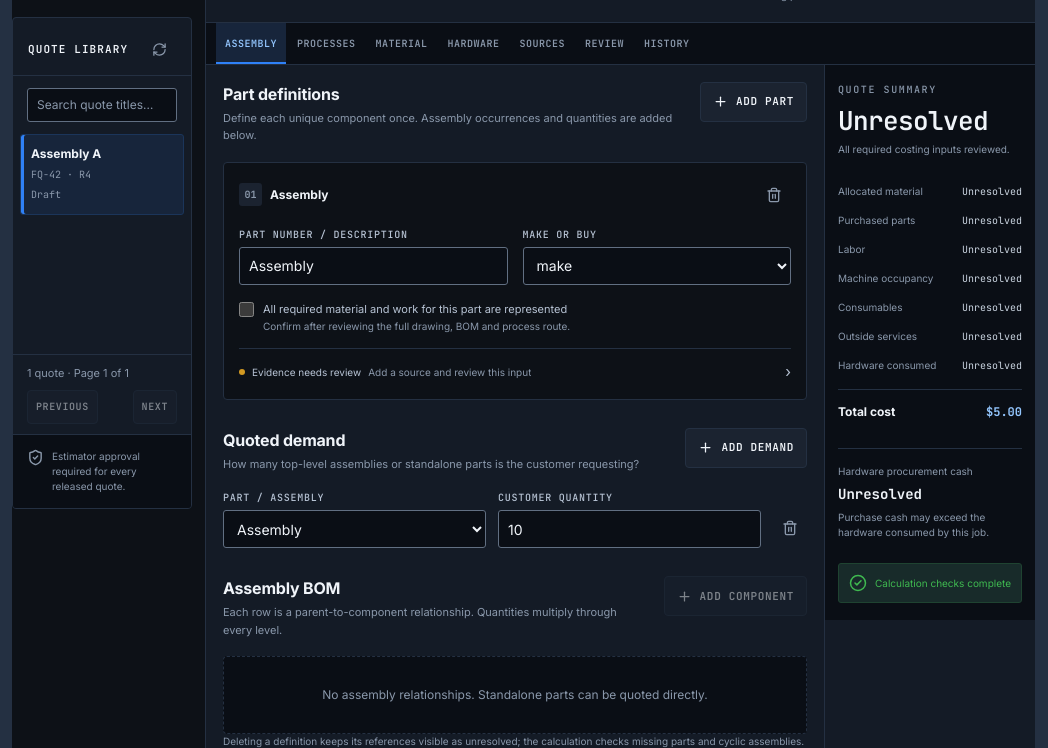
it: revision conflicts retain local decimal edits and prevent another save
The width and height of the screenshot is (1048, 748).
(page scrolled)
Step 1. Replace the text in the field labelled "Customer quantity" with "250.000000001" → coordinates (630, 529), box [498,510,761,548]
(page scrolled)
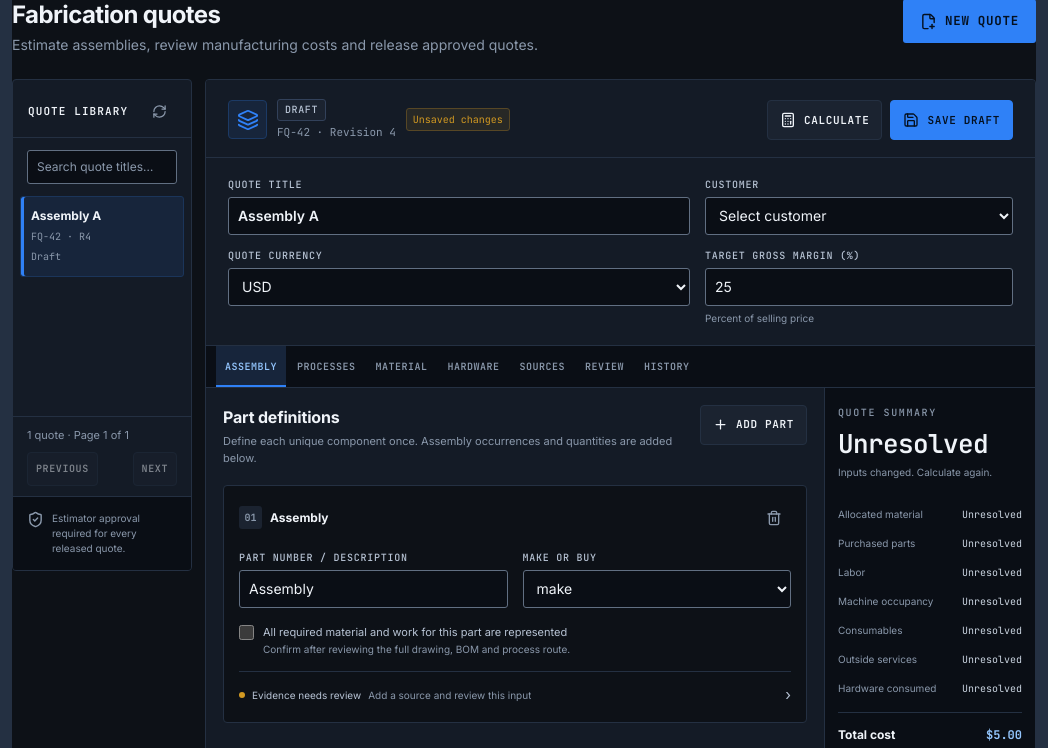
Step 2. Click the button "Save draft" → coordinates (952, 120), box [890,100,1013,140]
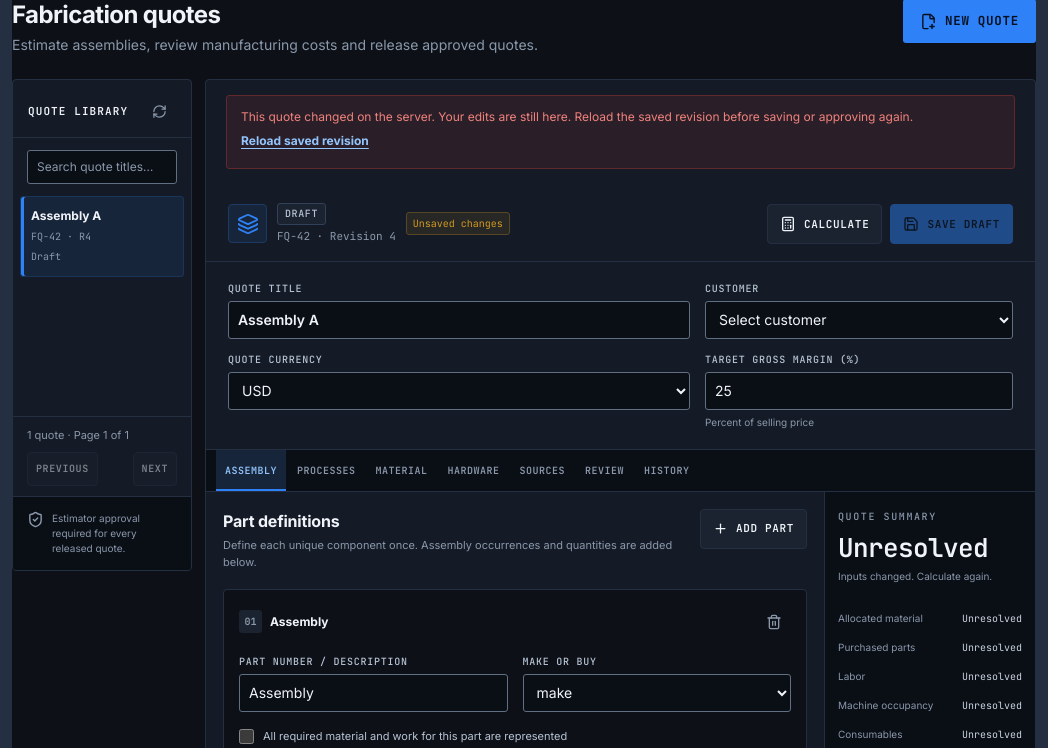
Expected: the text "This quote changed on the server" is shown, [241,109,913,124]
Expected: the button "Save draft" is disabled, [890,204,1013,244]
